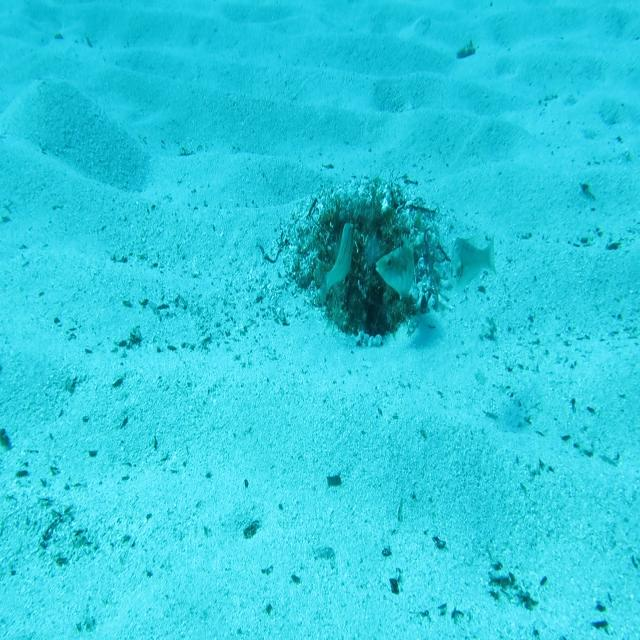BEND: (375, 233, 419, 301)
core_nest: (352, 198, 399, 245)
female: (449, 226, 499, 301), (315, 220, 357, 308)
nest: (279, 174, 452, 352)
vegetation: (456, 36, 476, 60), (242, 522, 259, 540), (326, 470, 341, 488)
